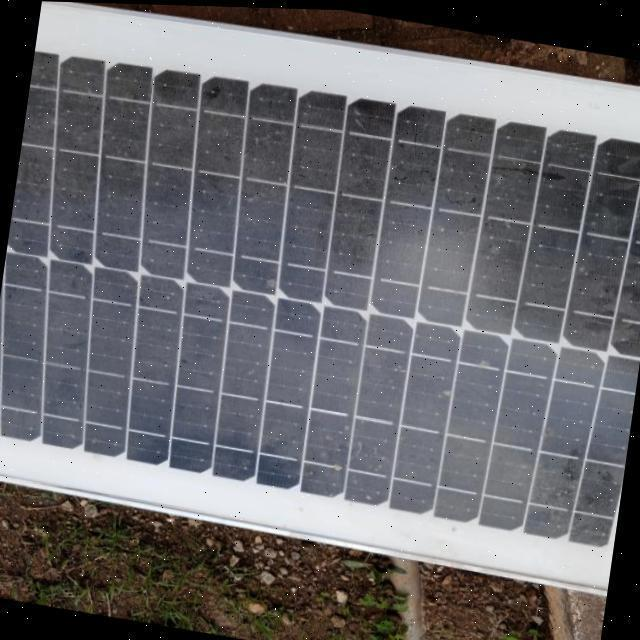Surface Contaminant: (0, 24, 640, 552)
